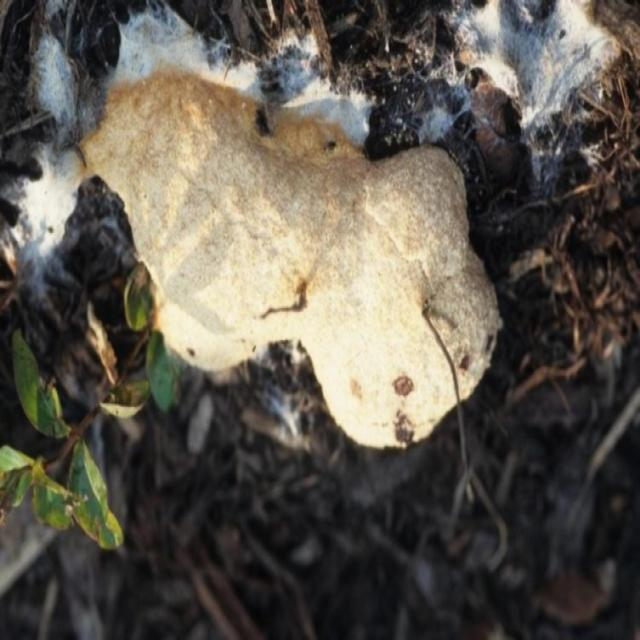Dog_vomit_slime_mold: (71, 56, 493, 471)
